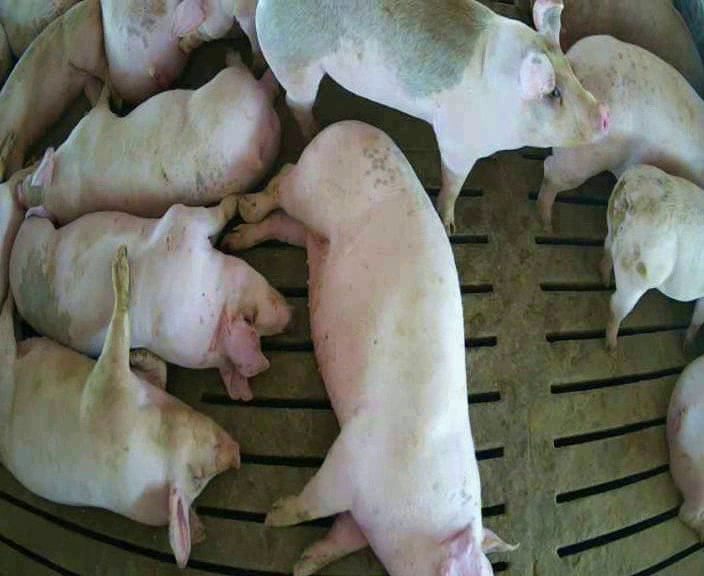pig: (225, 122, 518, 574), (257, 2, 606, 233), (10, 198, 289, 398), (19, 49, 279, 223), (538, 35, 703, 229), (602, 165, 703, 348), (560, 2, 703, 97), (101, 2, 187, 102), (666, 356, 703, 539), (169, 1, 265, 69)
